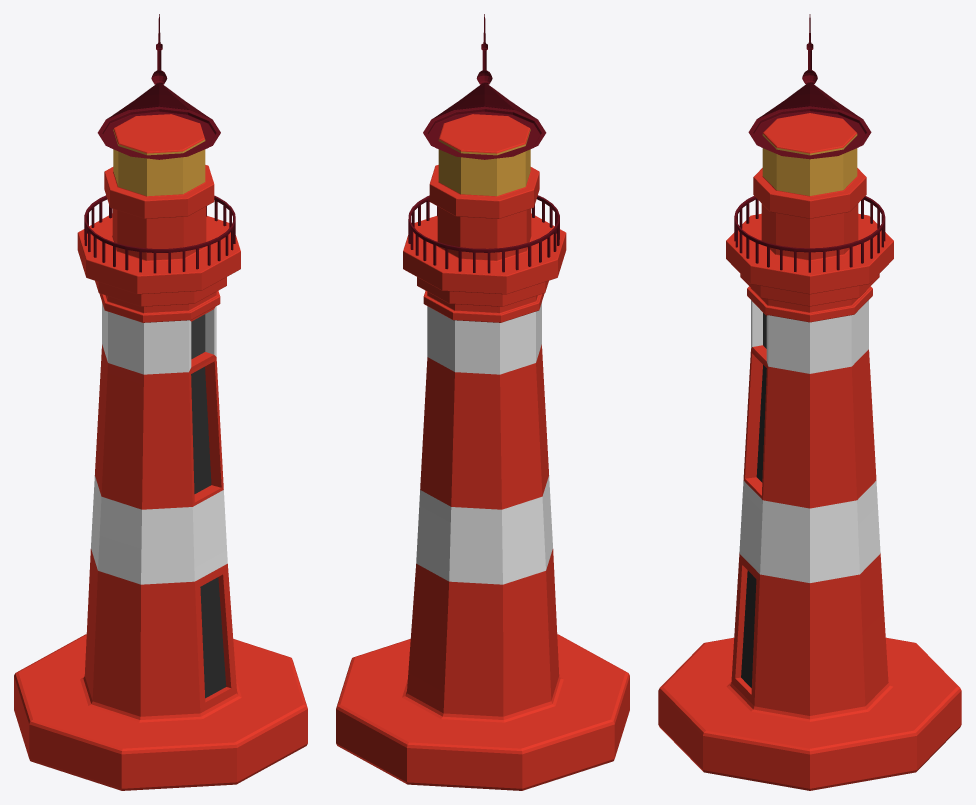
File: Mercusuar.fbx
3 renders of one model, left to right at view 1: azimuth 30°, elevation 25°; view 2: azimuth 150°, elevation 25°; view 3: azimuth 270°, elevation 25°, orthographic.
Visible parts, largest first — view 1: Mercusuar_LOD0; view 2: Mercusuar_LOD0; view 3: Mercusuar_LOD0.
Boxes of the visible parts, x1,y1,x2,y2 form: Mercusuar_LOD0: [14, 14, 307, 790]; Mercusuar_LOD0: [336, 14, 629, 790]; Mercusuar_LOD0: [658, 14, 961, 790].
Size of what is drawn, in the model's own units: 152 by 152 by 394.
